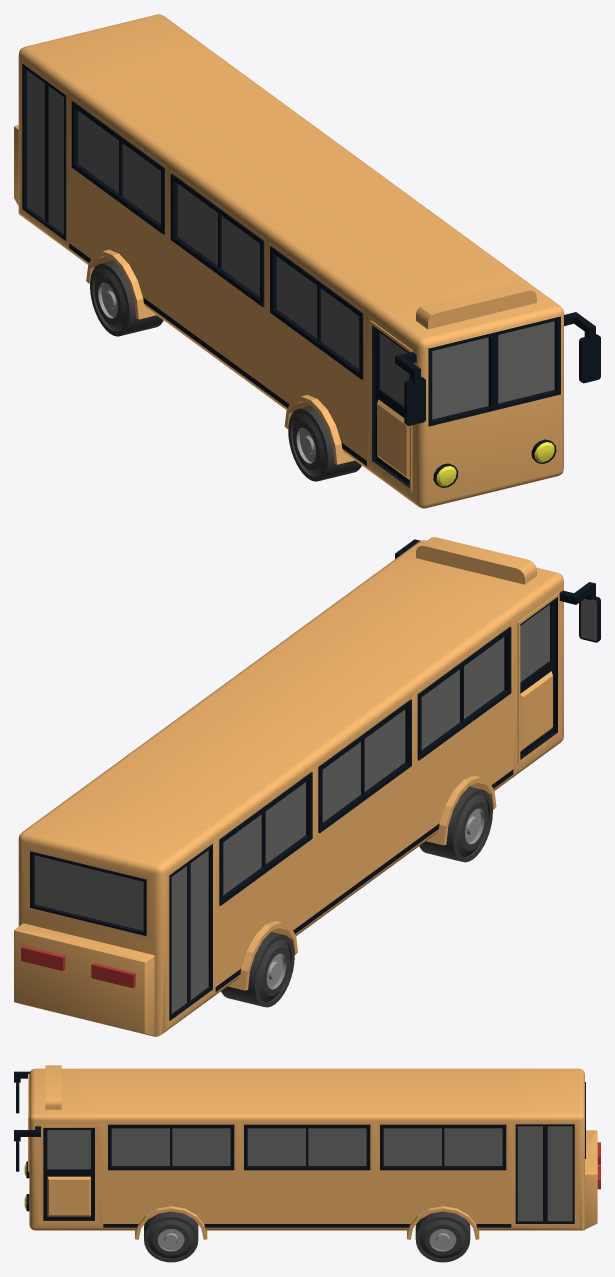
File: school-bus.fbx
3 renders of one model, top to bottom at view 1: azimuth 30°, elevation 25°; view 2: azimuth 150°, elevation 25°; view 3: azimuth 270°, elevation 25°, orthographic. The views are drawn at different scales.
Visible parts, largest first — view 1: school-bus, bus-front-wheels, bus-rear-wheels; view 2: school-bus, bus-rear-wheels, bus-front-wheels; view 3: school-bus, bus-rear-wheels, bus-front-wheels.
Boxes of the visible parts, x1,y1,x2,y2 form: school-bus: (14,14,600,508); bus-front-wheels: (288,406,361,481); bus-rear-wheels: (90,261,163,336); school-bus: (14,537,600,1036); bus-rear-wheels: (221,931,294,1007); bus-front-wheels: (419,786,492,862); school-bus: (14,1065,600,1239); bus-rear-wheels: (415,1211,470,1262); bus-front-wheels: (144,1211,198,1262).
Size of the model in its own units: 281 by 309 by 1073.
